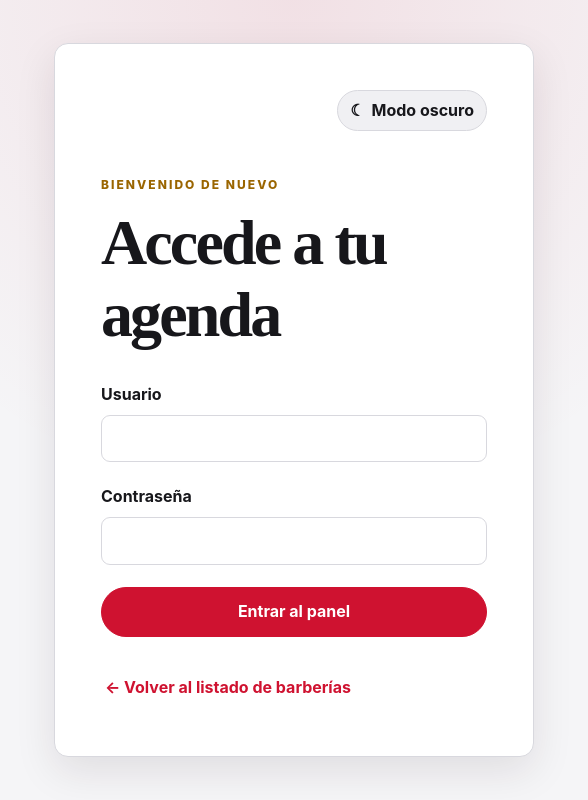
Test: autenticación y rutas protegidas › muestra el error seguro de credenciales
In the field labelled "Usuario": [294, 439] box [101,415,487,462], type "mimi"
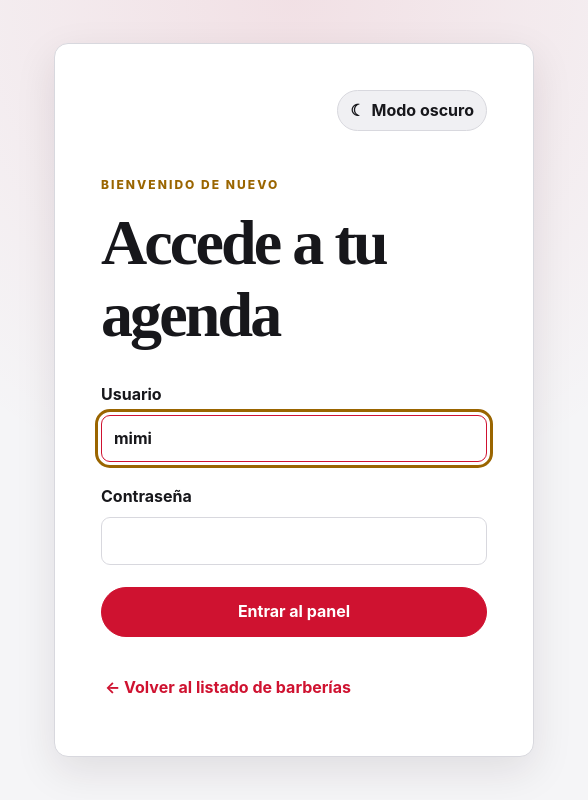
In the password field labelled "Contraseña": [294, 541] box [101,517,487,565], type "incorrecta"
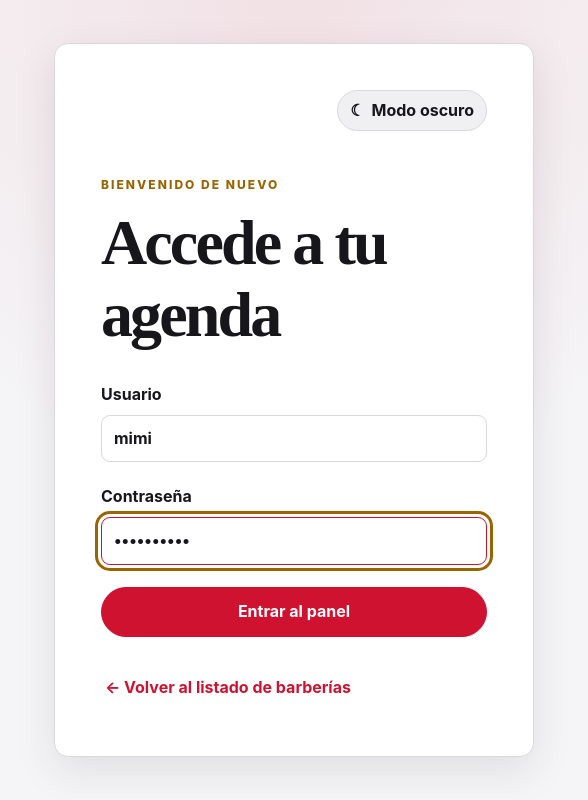
Click the button "Entrar al panel": [294, 612] box [101,587,487,637]
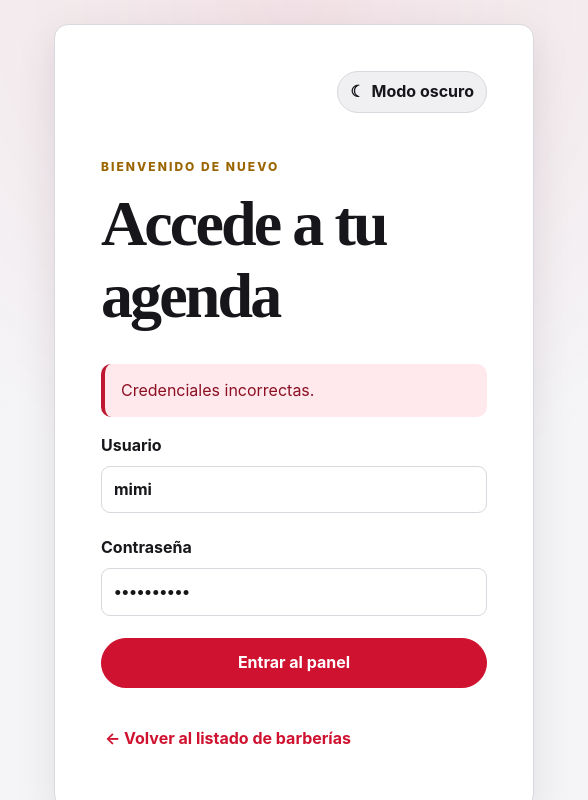
Now the message reads "Credenciales incorrectas.", box [121,380,314,400]
